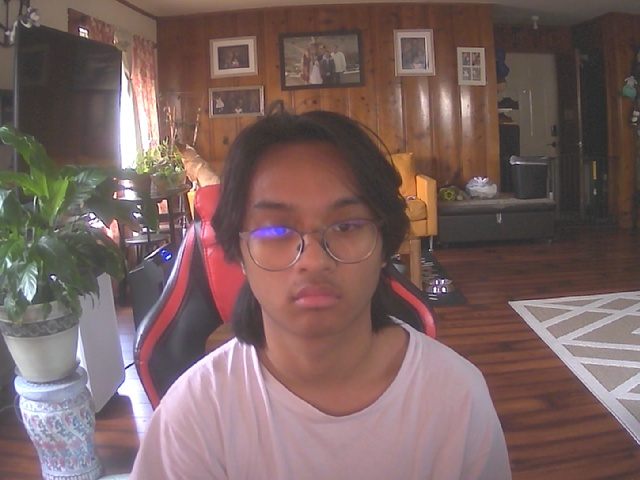neutral: (232, 121, 397, 344)
